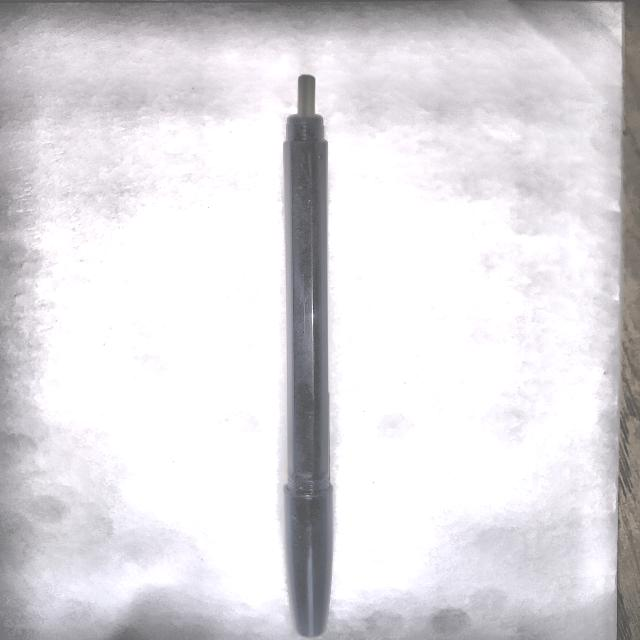Pulpen: (254, 70, 359, 640)
